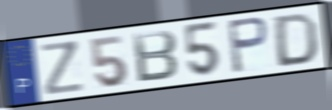5: (182, 19, 222, 80), (88, 33, 130, 89)
B: (130, 28, 180, 85)
D: (274, 11, 320, 69)
P: (225, 15, 270, 75)
Z: (38, 38, 87, 98)
